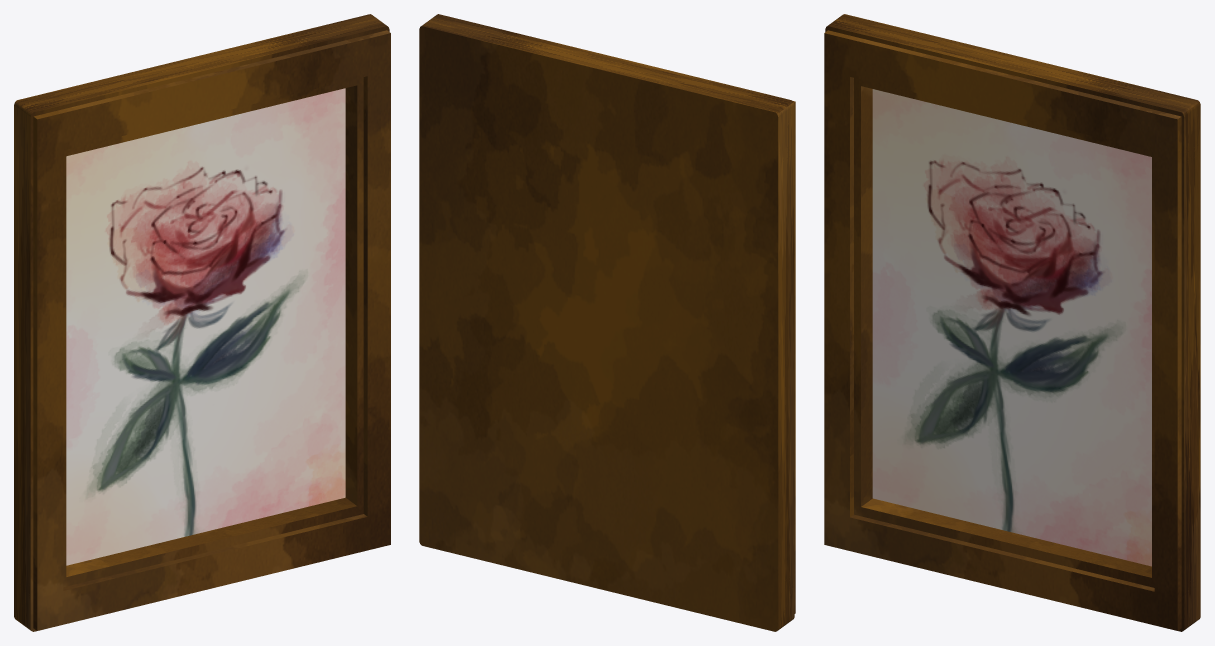
Rendered from obj_kaiga_rose.fbx.
3 renders of one model, left to right at view 1: azimuth 30°, elevation 25°; view 2: azimuth 150°, elevation 25°; view 3: azimuth 330°, elevation 25°, orthographic.
Parts seen in each view (by area): view 1: pCube1; view 2: pCube1; view 3: pCube1.
Boxes of the visible parts, x1,y1,x2,y2 form: pCube1: (14, 14, 390, 631); pCube1: (419, 14, 795, 631); pCube1: (824, 14, 1200, 631).
Size of the model in its own units: 10.36 by 14.32 by 1.02.
Materials: 1 (1 with a texture image).
